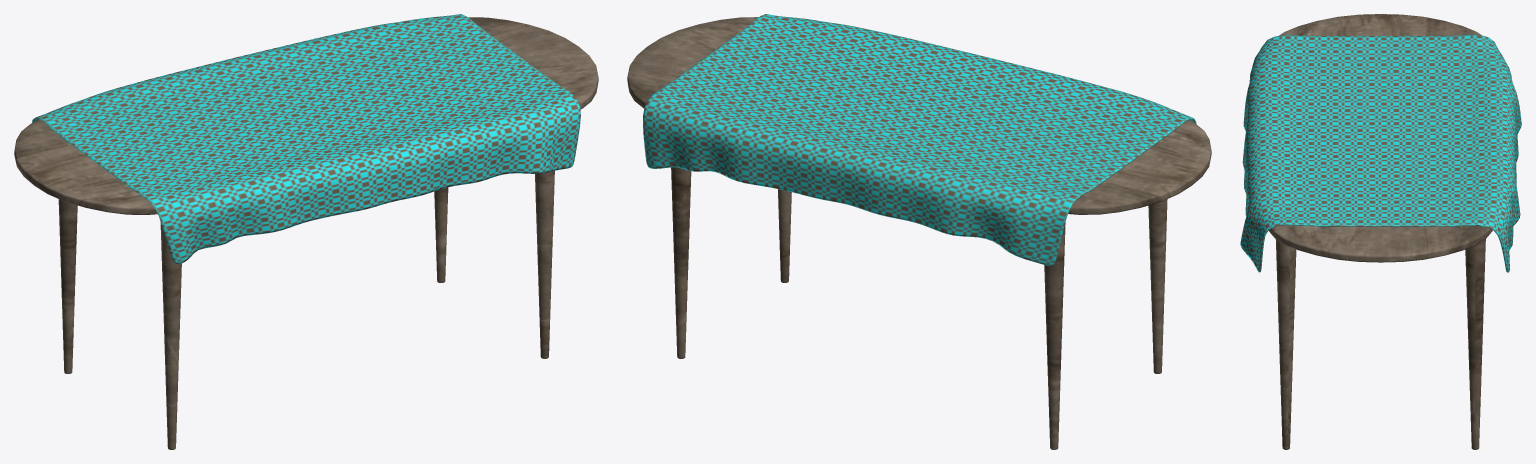
Rendered from lowtextable.glb.
The picture shows the model from 3 angles, left to right: view 1: azimuth 30°, elevation 25°; view 2: azimuth 150°, elevation 25°; view 3: azimuth 270°, elevation 25°; orthographic projection. The views are drawn at different scales.
Visible parts, largest first — view 1: cloth, table; view 2: cloth, table; view 3: cloth, table.
Boxes of the visible parts, left/top/right/bottom form: cloth: left=32, top=14, right=580, bottom=263; table: left=14, top=17, right=598, bottom=449; cloth: left=643, top=14, right=1196, bottom=265; table: left=627, top=17, right=1211, bottom=449; cloth: left=1240, top=34, right=1521, bottom=272; table: left=1268, top=14, right=1492, bottom=449.
Size of the model in its own units: 4.42 by 2.02 by 2.17.
Materials: 2 (2 with a texture image).
